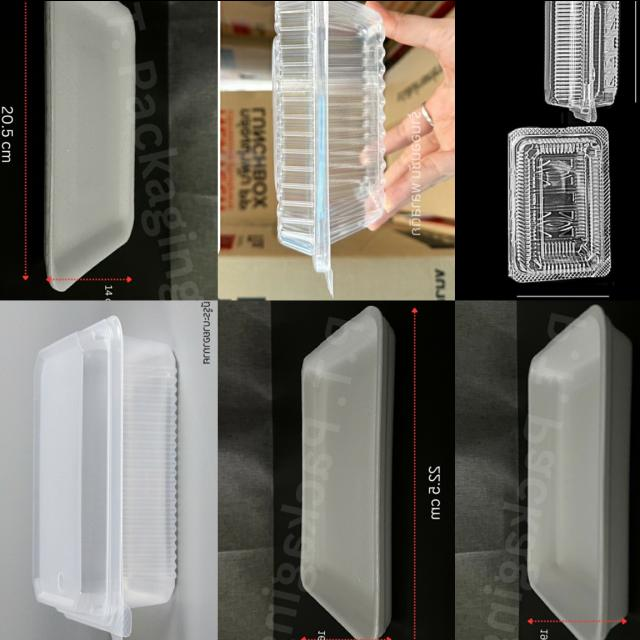plastik: (33, 315, 177, 640), (527, 304, 632, 640), (272, 0, 385, 289), (300, 305, 395, 640), (44, 0, 136, 290), (509, 126, 610, 282), (545, 0, 619, 122)
